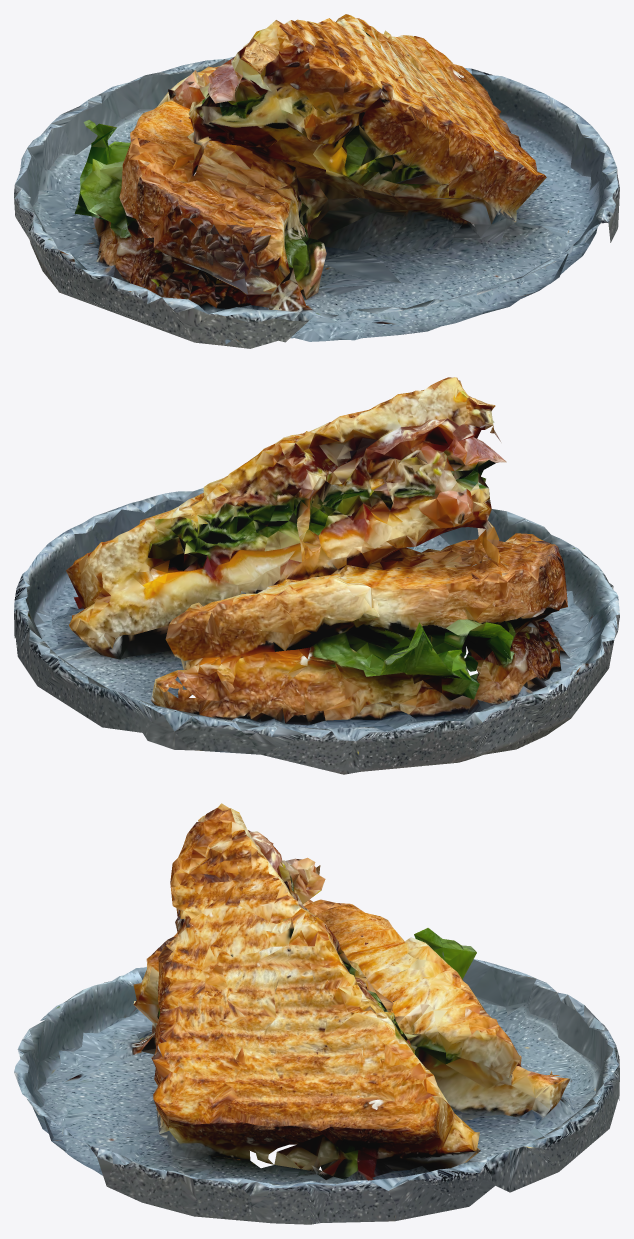
Rendered from SANDWICH.glb.
3 renders of one model, top to bottom at view 1: azimuth 30°, elevation 25°; view 2: azimuth 150°, elevation 25°; view 3: azimuth 270°, elevation 25°, orthographic.
Visible parts, largest first — view 1: Sandwich; view 2: Sandwich; view 3: Sandwich.
Part boxes in pixels (box(x1,y1,x2,y2)): Sandwich: box(14, 14, 619, 348); Sandwich: box(14, 377, 619, 774); Sandwich: box(14, 803, 619, 1224).
Bounding box in the file's own units: 96.85 × 48.74 × 97.05.
1 material, 1 textured.
